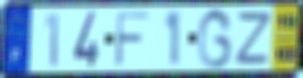1: (163, 9, 182, 69), (43, 11, 61, 69)
4: (72, 10, 101, 69)
F: (113, 10, 152, 68)
G: (195, 7, 234, 70)
Z: (232, 10, 274, 66)
